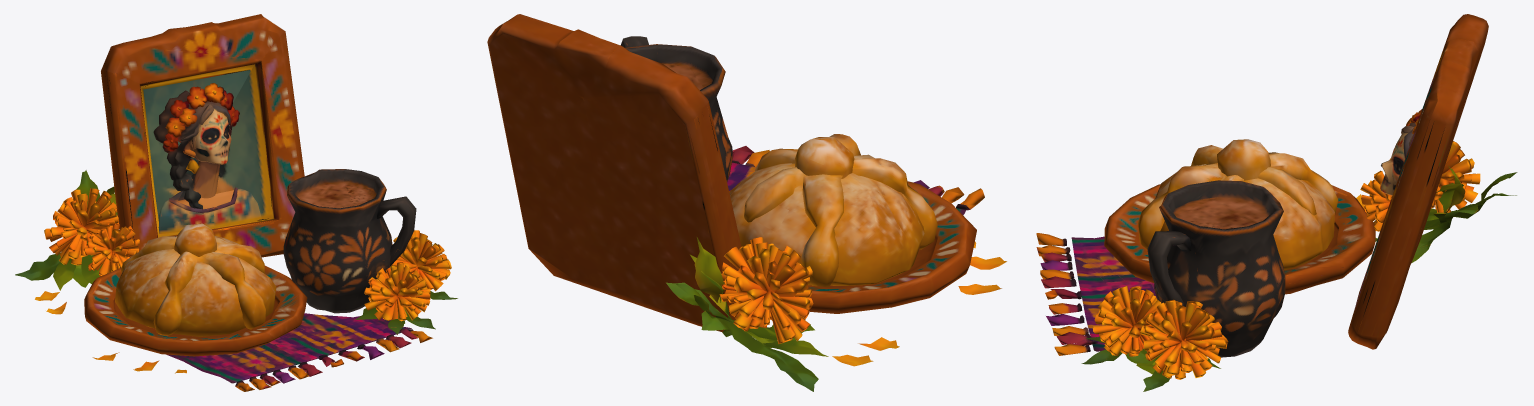
File: Meshy_AI_dia_de_muertos_altar_offering_20261111_texture.obj
The picture shows the model from 3 angles, left to right: view 1: azimuth 30°, elevation 25°; view 2: azimuth 150°, elevation 25°; view 3: azimuth 270°, elevation 25°; orthographic projection. The views are drawn at different scales.
Parts seen in each view (by area): view 1: Meshy_AI_dia_de_muertos_altar_offering_20261111_texture; view 2: Meshy_AI_dia_de_muertos_altar_offering_20261111_texture; view 3: Meshy_AI_dia_de_muertos_altar_offering_20261111_texture.
Boxes of the visible parts, x1,y1,x2,y2 form: Meshy_AI_dia_de_muertos_altar_offering_20261111_texture: (15, 14, 457, 391); Meshy_AI_dia_de_muertos_altar_offering_20261111_texture: (487, 14, 1006, 391); Meshy_AI_dia_de_muertos_altar_offering_20261111_texture: (1036, 14, 1517, 391).
Bounding box in the file's own units: 0.9556 × 0.5708 × 0.9492.
Materials: 1 (1 with a texture image).
